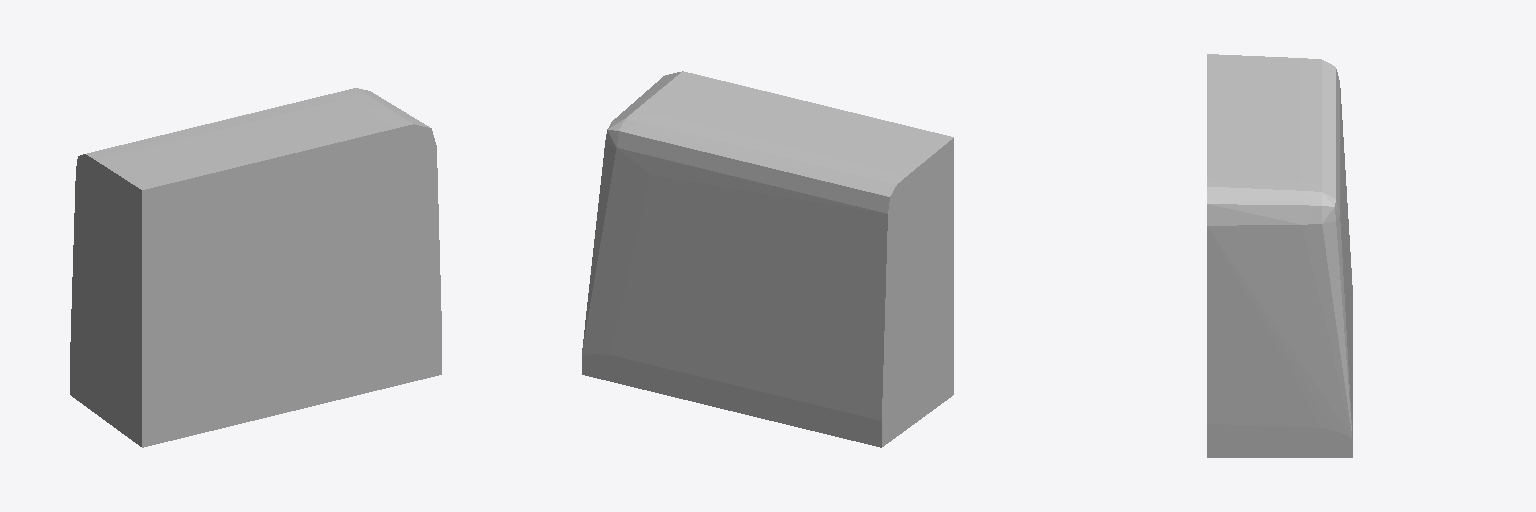
The model's file is ShipScene_collision_30.obj.
3 renders of one model, left to right at view 1: azimuth 30°, elevation 25°; view 2: azimuth 150°, elevation 25°; view 3: azimuth 270°, elevation 25°, orthographic.
Bounding box in the file's own units: 87.99 × 72.14 × 36.82.